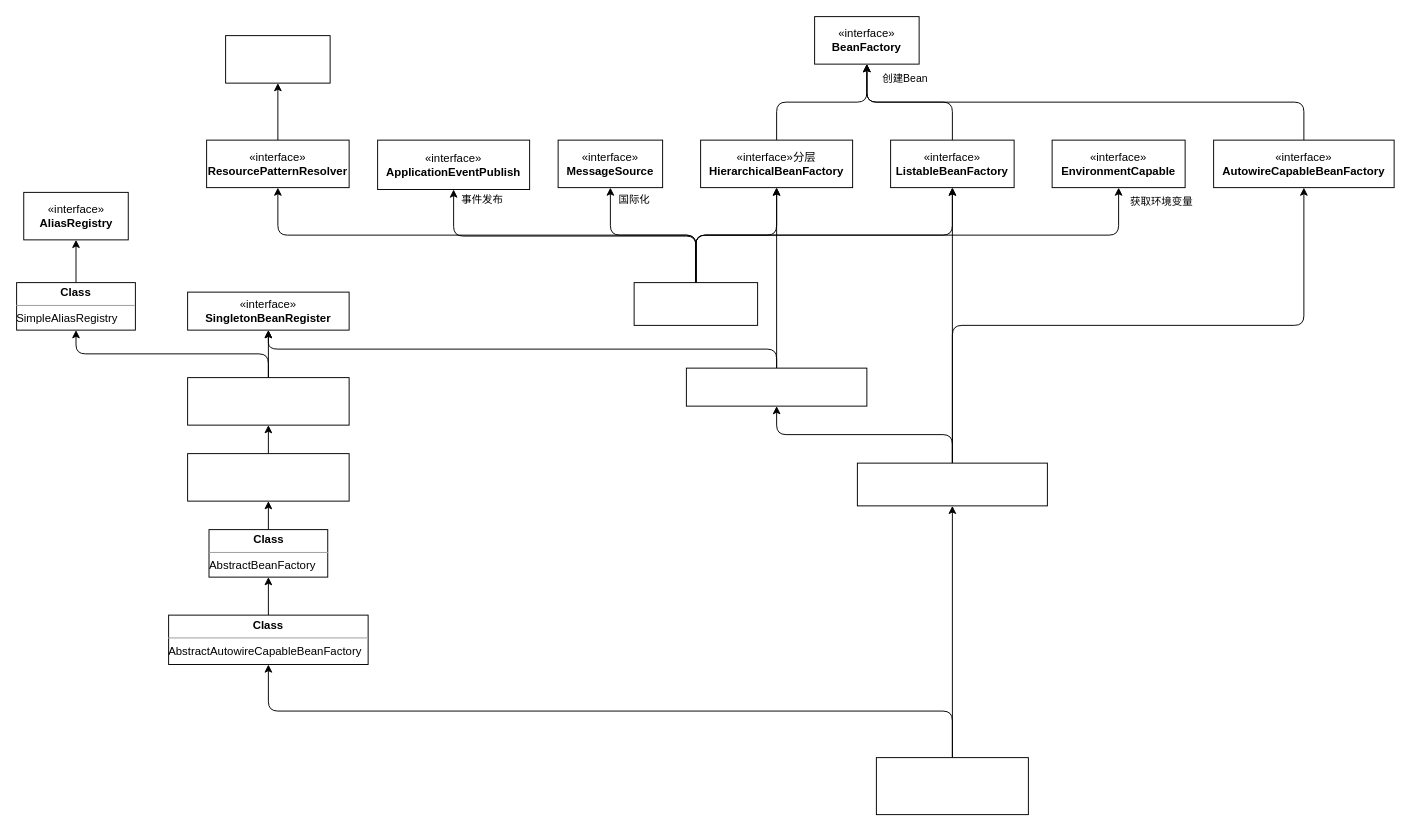
This 1411x831 diagram has some shape labels left out. Here are the shapes that lost their labels. From the top down, the box of each, then its label:
(225, 35, 330, 83): «interface» ResourceResolver
(633, 282, 758, 325): «interface» ApplicationContext
(187, 377, 349, 425): Class DefaultSingletonBeanRegistry
(685, 367, 867, 406): «interface» ConfigurableBeanFactory
(187, 453, 349, 501): Class FactoryBeanRegistrySupport
(856, 462, 1047, 506): «interface» ConfigurableListableBeanFactory
(875, 757, 1028, 815): Class DefaultListableBeanFactory
